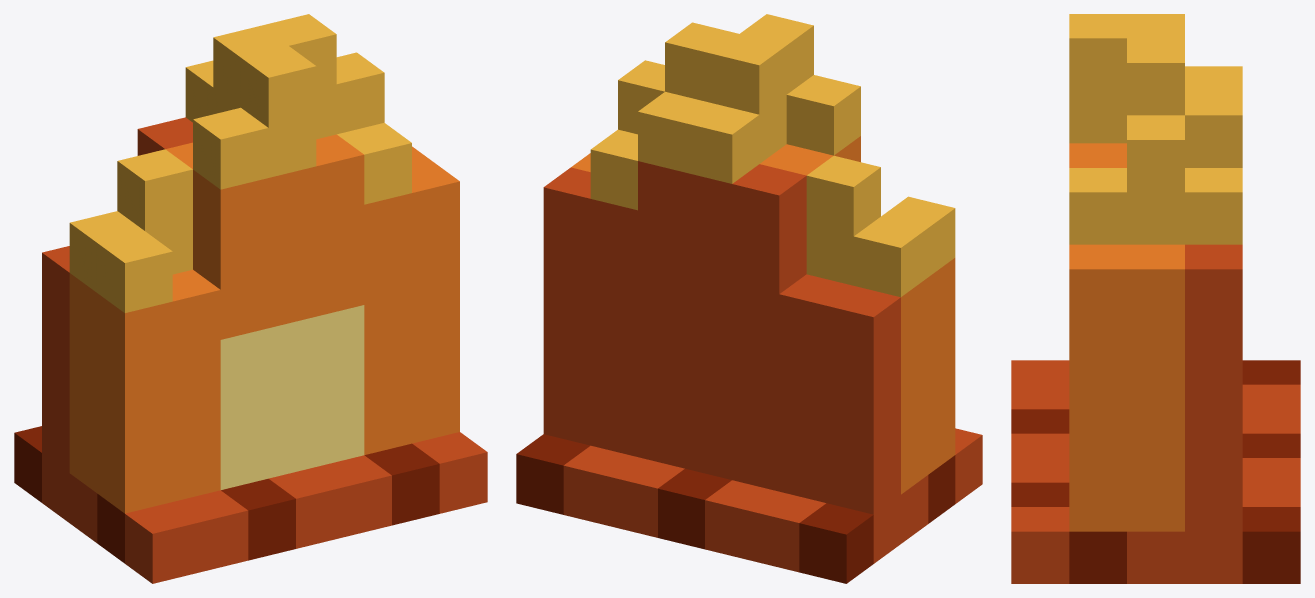
File: smelter_flame.glb
3 renders of one model, left to right at view 1: azimuth 30°, elevation 25°; view 2: azimuth 150°, elevation 25°; view 3: azimuth 270°, elevation 25°, orthographic. The views are drawn at different scales.
Parts seen in each view (by area): view 1: flame_00, flame_01, flame_04, flame_06, flame_05, flame_02, flame_03; view 2: flame_00, flame_01, flame_06, flame_04, flame_05, flame_02, flame_07; view 3: flame_00, flame_04, flame_02, flame_01, flame_06, flame_03, flame_07, flame_05.
Boxes of the visible parts, box(x1,y1,x2,y2) form: flame_00: box(14, 14, 487, 583); flame_01: box(42, 60, 220, 363); flame_04: box(336, 52, 459, 254); flame_06: box(213, 25, 316, 127); flame_05: box(193, 107, 316, 189); flame_02: box(364, 231, 459, 304); flame_03: box(337, 122, 411, 204); flame_00: box(516, 22, 982, 583); flame_01: box(638, 91, 955, 366); flame_06: box(712, 14, 813, 163); flame_04: box(543, 60, 664, 259); flame_05: box(786, 75, 860, 155); flame_02: box(543, 237, 637, 308); flame_07: box(590, 129, 637, 210); flame_00: box(1011, 38, 1300, 583); flame_04: box(1069, 115, 1242, 321); flame_02: box(1069, 192, 1242, 373); flame_01: box(1185, 66, 1242, 167); flame_06: box(1069, 14, 1184, 90); flame_03: box(1069, 168, 1126, 244); flame_07: box(1185, 168, 1242, 244); flame_05: box(1069, 91, 1126, 143).
Bounding box in the file's own units: 0.875 × 1.12 × 0.625.
